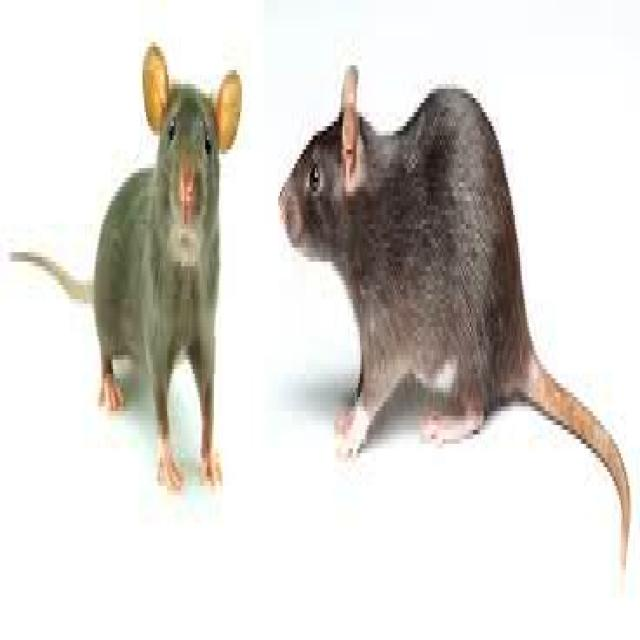rat: (278, 65, 630, 565), (10, 42, 240, 481)
